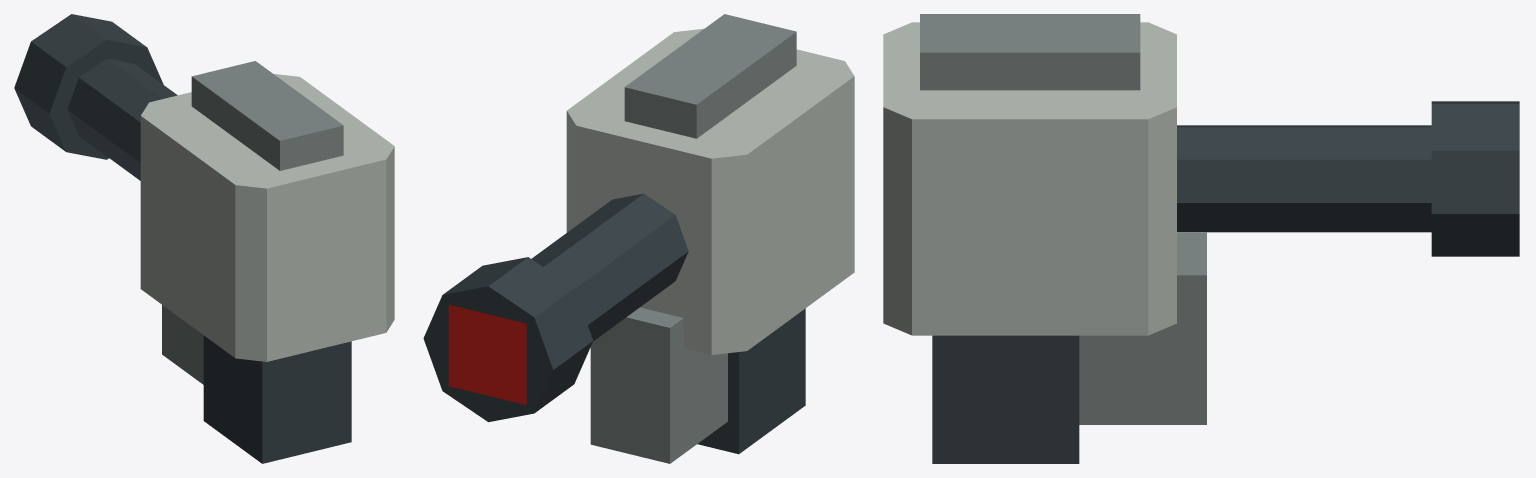
3 views of the same model, side by side, from view 1: azimuth 30°, elevation 25°; view 2: azimuth 150°, elevation 25°; view 3: azimuth 270°, elevation 25° (orthographic). The views are drawn at different scales.
Parts seen in each view (by area): view 1: mount; view 2: mount; view 3: mount.
Part boxes in pixels (x1=…): mount: x1=14, y1=14, x2=394, y2=463; mount: x1=423, y1=14, x2=854, y2=463; mount: x1=883, y1=14, x2=1519, y2=463.
Bounding box in the file's own units: 3.75 × 7.27 × 10.43.
